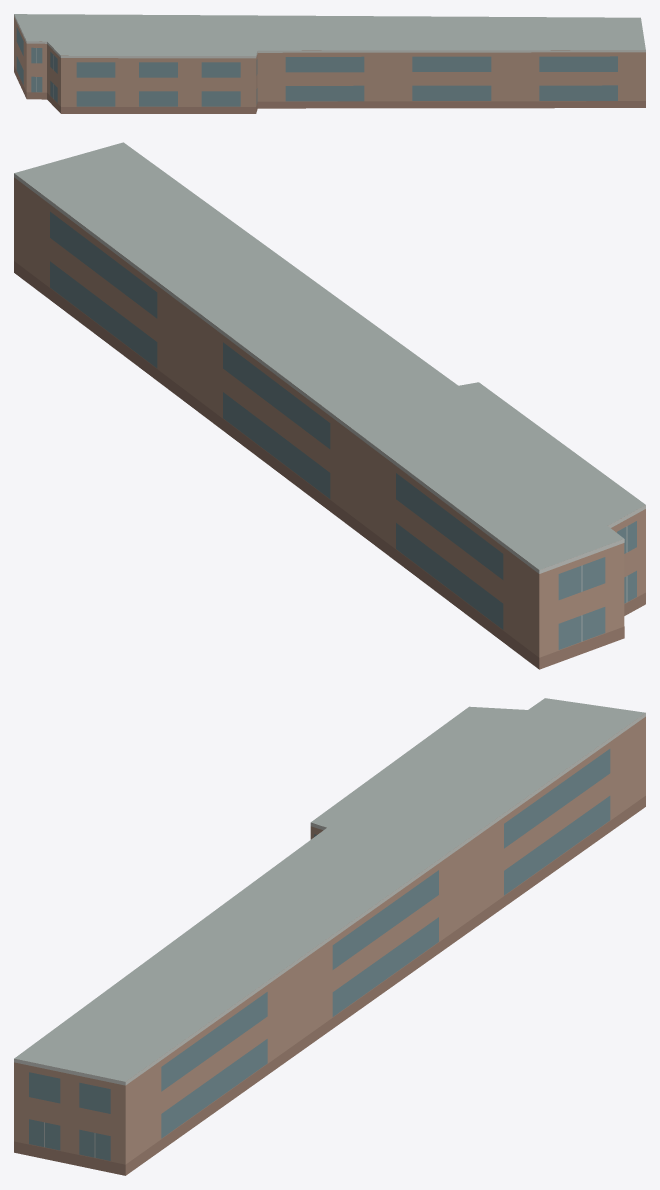
The model's file is survey-upis-32949406.glb.
The picture shows the model from 3 angles, top to bottom: view 1: azimuth 30°, elevation 25°; view 2: azimuth 150°, elevation 25°; view 3: azimuth 270°, elevation 25°; orthographic projection. The views are drawn at different scales.
Visible parts, largest first — view 1: survey-upis-32949406.tmp; view 2: survey-upis-32949406.tmp; view 3: survey-upis-32949406.tmp.
Part boxes in pixels (box(x1,y1,x2,y2)): survey-upis-32949406.tmp: box(14, 14, 645, 113); survey-upis-32949406.tmp: box(14, 142, 645, 669); survey-upis-32949406.tmp: box(14, 698, 645, 1175).
Size of the model in its own units: 53.4 by 6.1 by 37.16.
